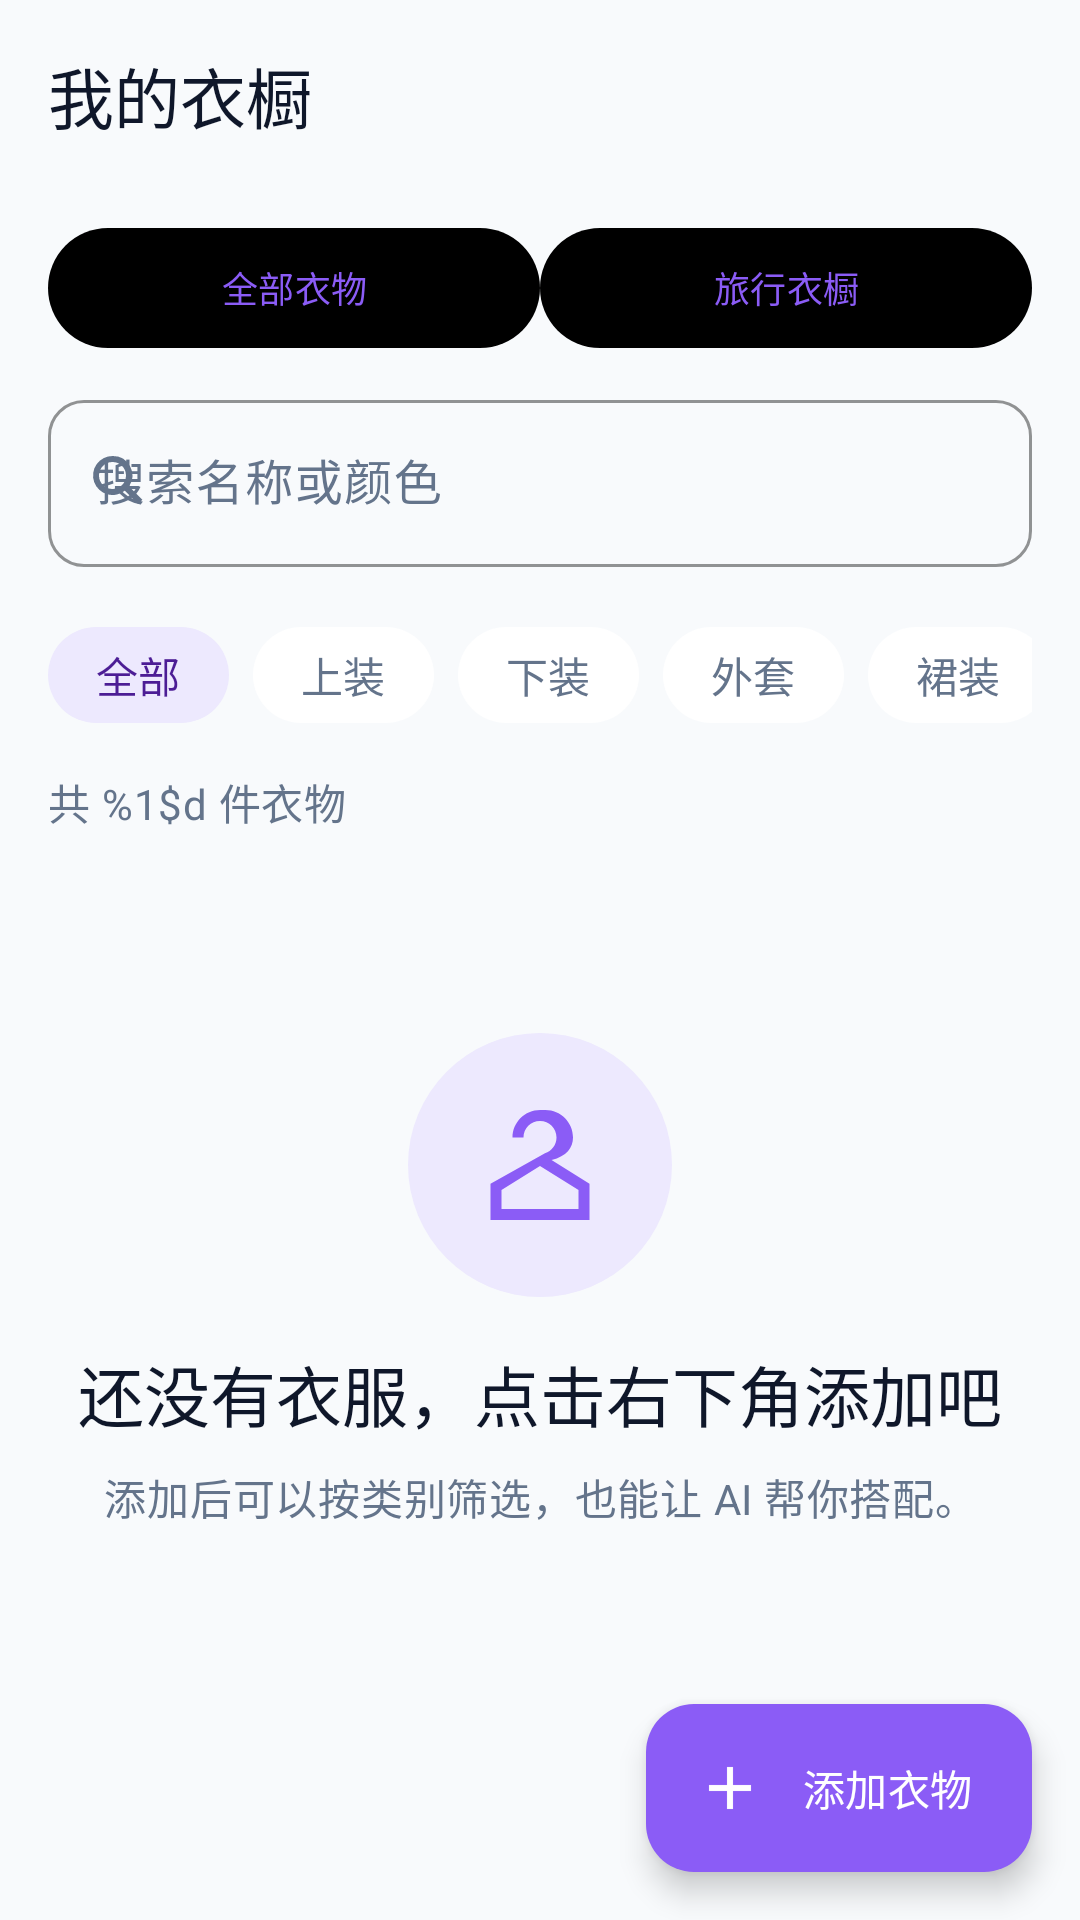

Named icons in this screenshot (1080w x 1920h) and their centers, point (x, y):
衣橱: point (540, 1165)
